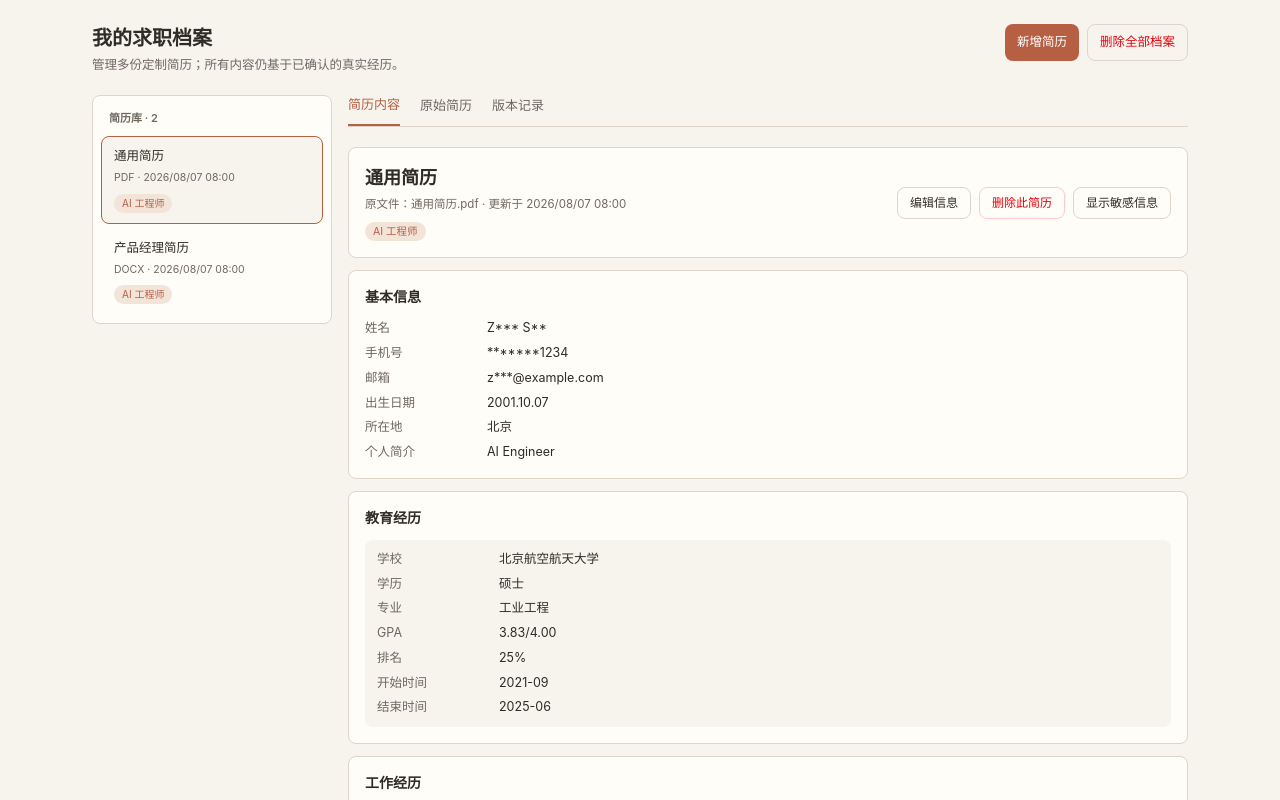
Test: CareerProfileView › deletes one resume by exact name and selects the adjacent resume
The image size is (1280, 800).
Check: the text "北京航空航天大学" is shown, box [499,551,599,566]
Click the button "删除此简历" at (1022, 203), box [979,187,1065,219]
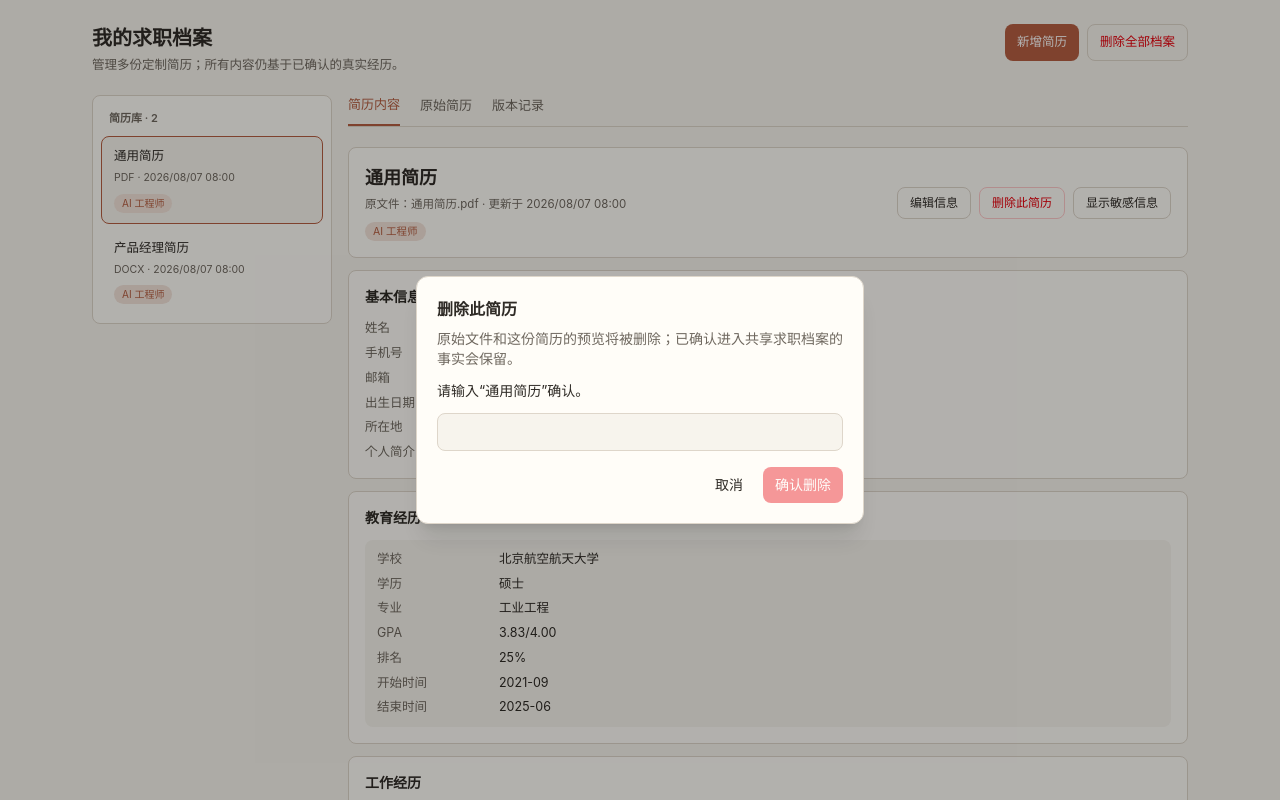
Check: the text "原始文件和这份简历的预览将被删除；已确认进入共享求职档案的事实会保留。" is shown, box [437,329,843,369]
Type "通用简历" into the field named "输入简历名称" at (640, 432), box [437,413,843,451]
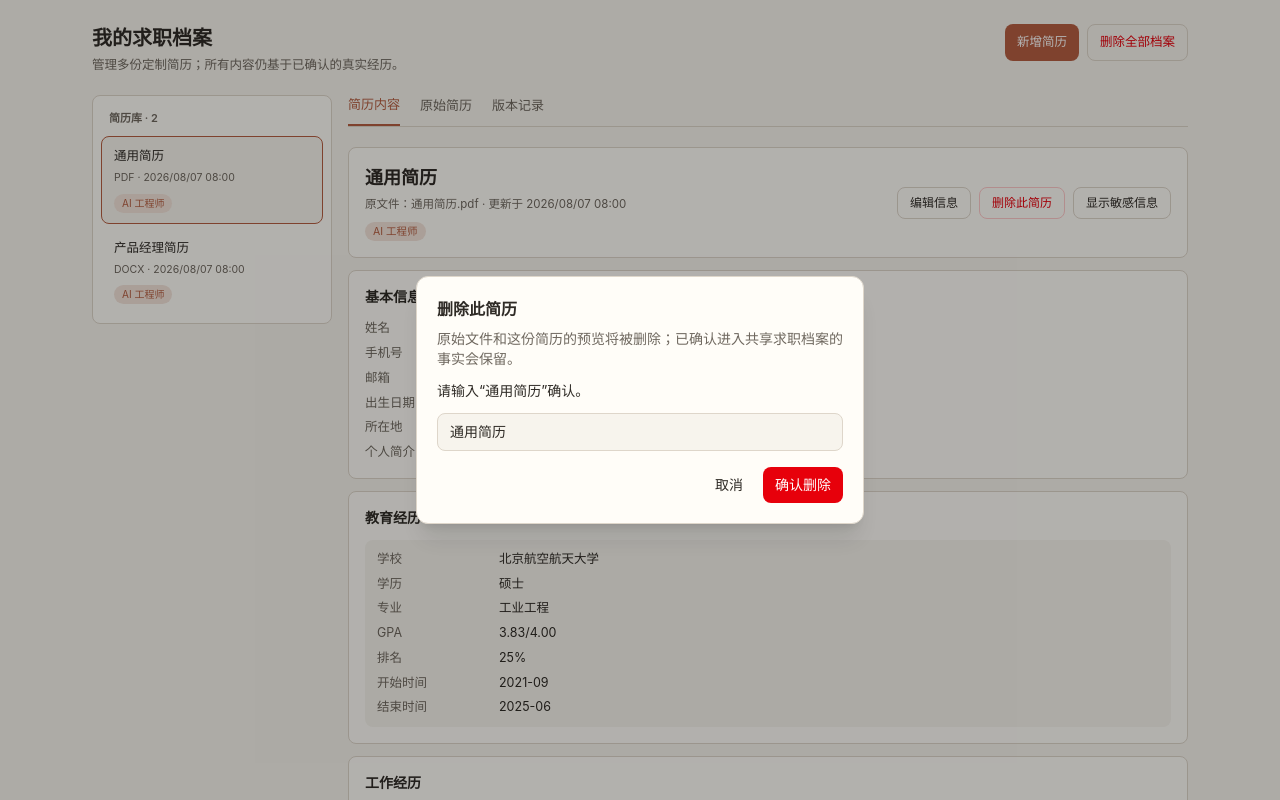
Click the button "确认删除" at (803, 485), box [763,467,843,503]
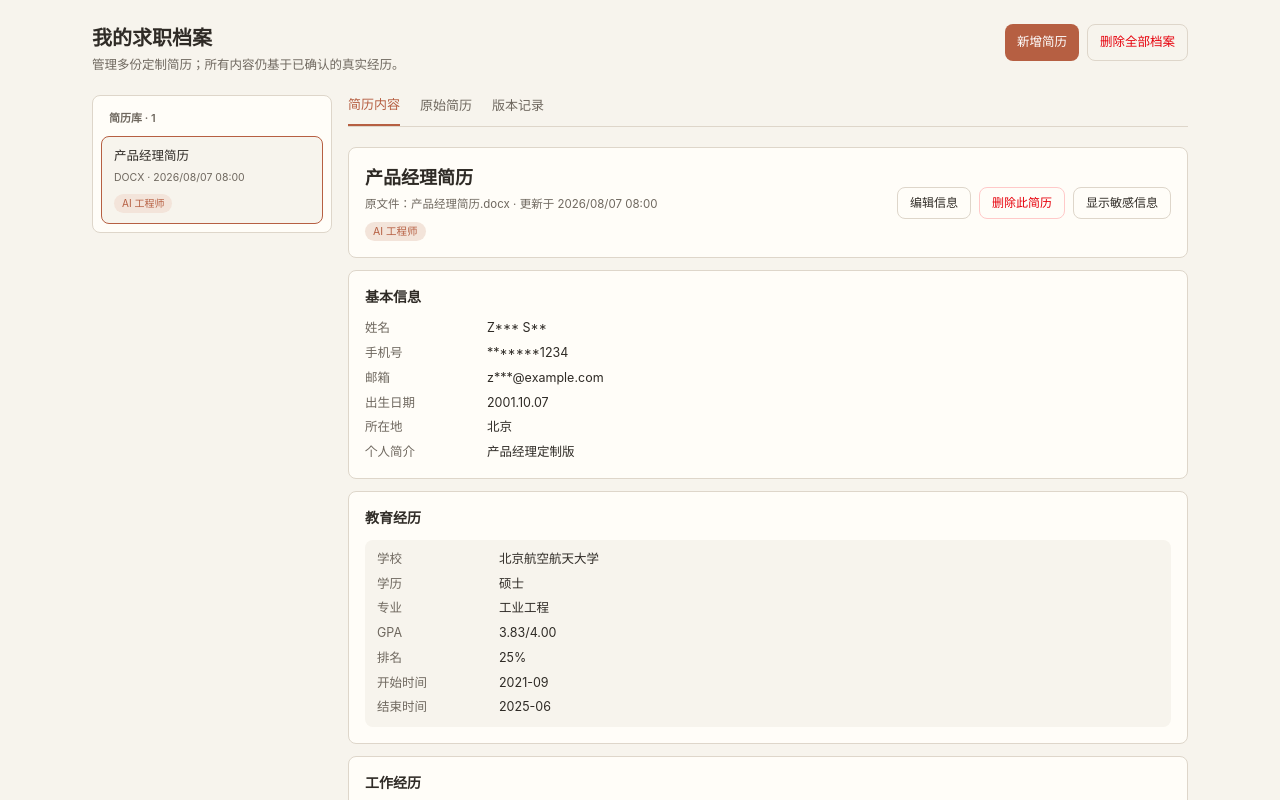
Check: the text "产品经理定制版" is shown, box [487,444,574,459]
Check: the button "通用简历 PDF" is gone
